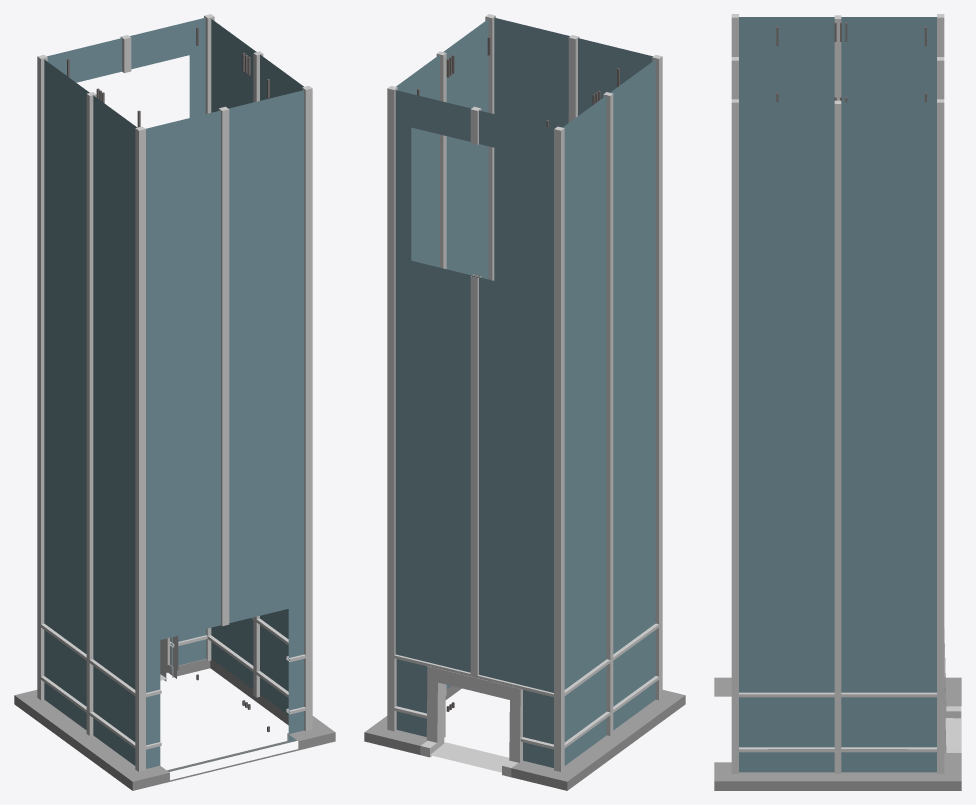
Rendered from lift-shaft-1-0.glb.
The picture shows the model from 3 angles, left to right: view 1: azimuth 30°, elevation 25°; view 2: azimuth 150°, elevation 25°; view 3: azimuth 270°, elevation 25°; orthographic projection. The views are drawn at different scales.
Parts seen in each view (by area): view 1: BackUpWithMirror.001_Cube.004 / Glass, BackUpWithMirror.001_Cube.004 / Metal, BackUpWithMirror.001_Cube.004 / Beton, BackUpWithMirror.001_Cube.004 / BlackMetal; view 2: BackUpWithMirror.001_Cube.004 / Glass, BackUpWithMirror.001_Cube.004 / Metal, BackUpWithMirror.001_Cube.004 / Beton; view 3: BackUpWithMirror.001_Cube.004 / Glass, BackUpWithMirror.001_Cube.004 / Metal, BackUpWithMirror.001_Cube.004 / Beton.
Boxes of the visible parts, x1,y1,x2,y2 form: BackUpWithMirror.001_Cube.004 / Glass: [44, 17, 304, 771]; BackUpWithMirror.001_Cube.004 / Metal: [37, 14, 312, 771]; BackUpWithMirror.001_Cube.004 / Beton: [14, 659, 335, 790]; BackUpWithMirror.001_Cube.004 / BlackMetal: [67, 27, 269, 732]; BackUpWithMirror.001_Cube.004 / Glass: [395, 17, 655, 767]; BackUpWithMirror.001_Cube.004 / Metal: [387, 14, 662, 777]; BackUpWithMirror.001_Cube.004 / Beton: [364, 686, 685, 790]; BackUpWithMirror.001_Cube.004 / Glass: [739, 17, 936, 772]; BackUpWithMirror.001_Cube.004 / Metal: [731, 14, 961, 773]; BackUpWithMirror.001_Cube.004 / Beton: [714, 677, 961, 790].
Bounding box in the file's own units: 8.52 × 26.27 × 8.61.
